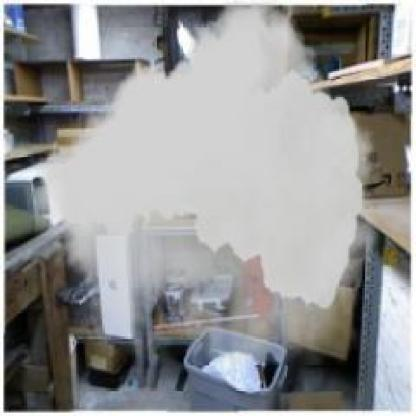Smoke: (36, 0, 378, 364)
